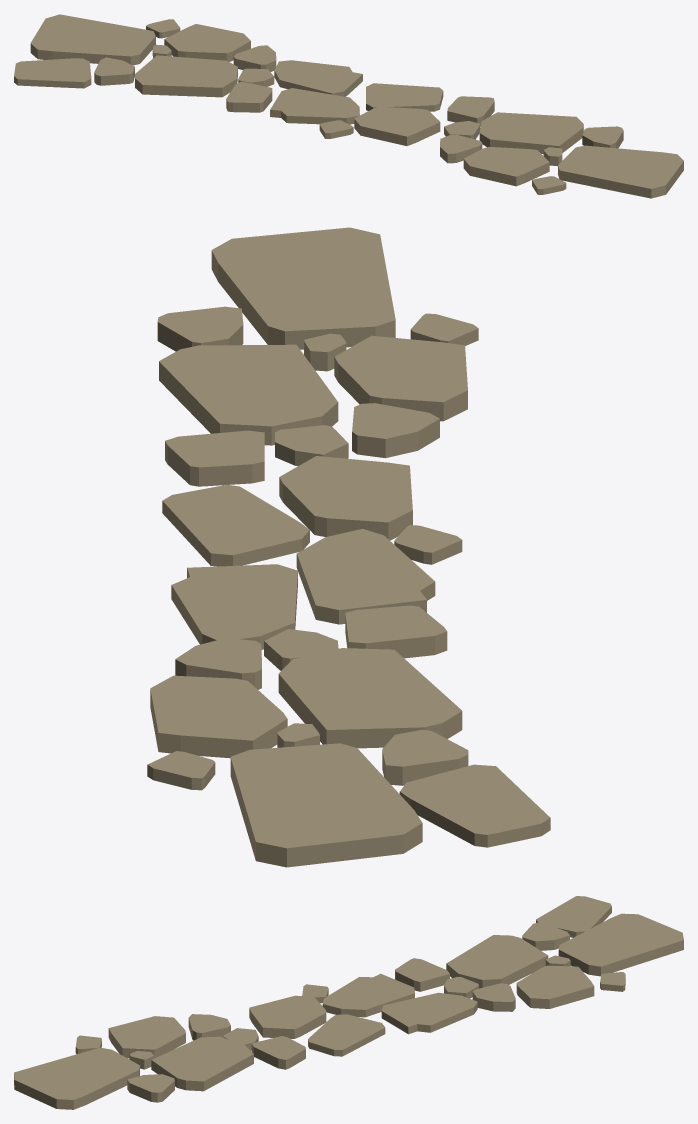
Rendered from 石板路2.fbx.
3 renders of one model, top to bottom at view 1: azimuth 30°, elevation 25°; view 2: azimuth 150°, elevation 25°; view 3: azimuth 270°, elevation 25°, orthographic. The views are drawn at different scales.
Parts seen in each view (by area): view 1: Tile3.001; view 2: Tile3.001; view 3: Tile3.001.
Boxes of the visible parts, x1=… form: Tile3.001: x1=14, y1=14, x2=683, y2=198; Tile3.001: x1=147, y1=227, x2=550, y2=867; Tile3.001: x1=14, y1=896, x2=683, y2=1109.
Size of the model in its own units: 302 by 6.68 by 412.
